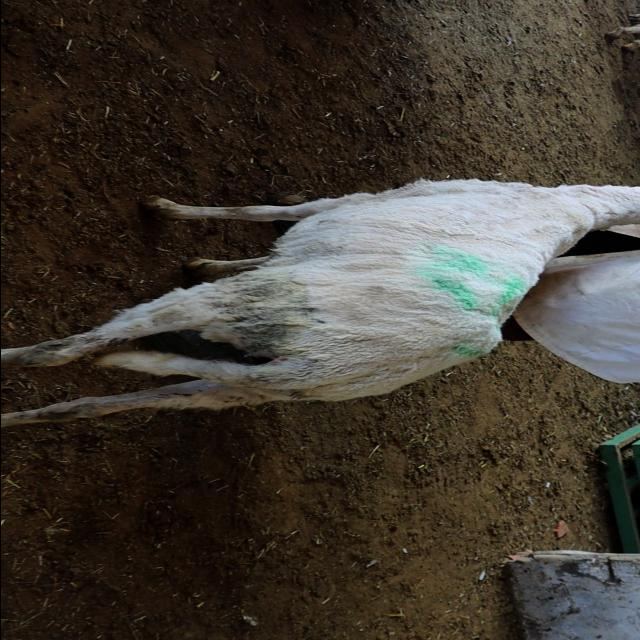Score_2: (1, 179, 640, 427)
